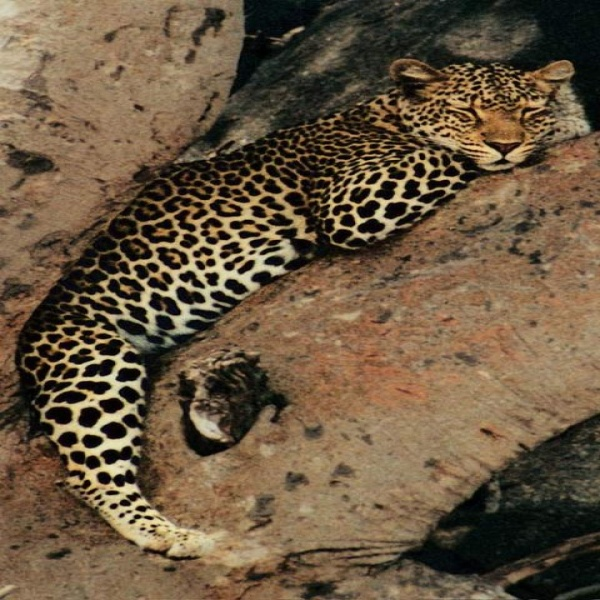Leopard: (16, 54, 587, 565)
